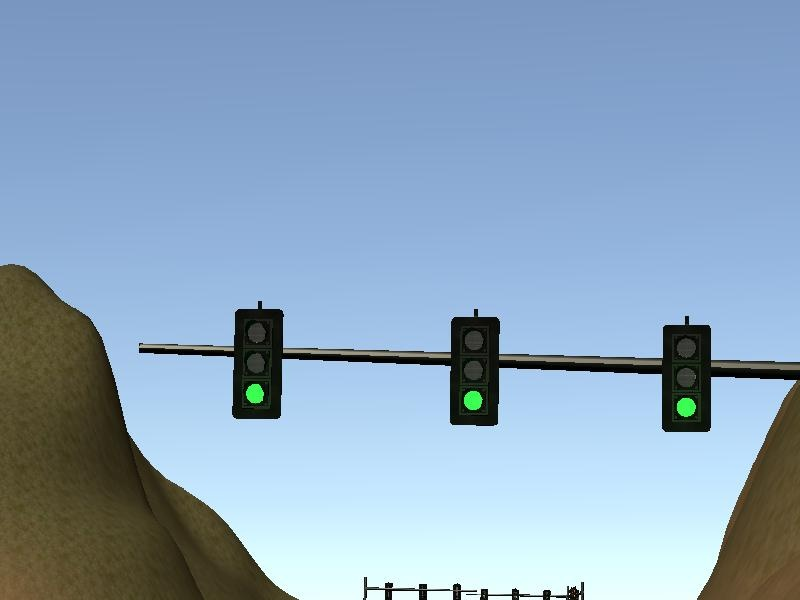green: (228, 303, 289, 428), (654, 314, 714, 440), (446, 309, 504, 433)
